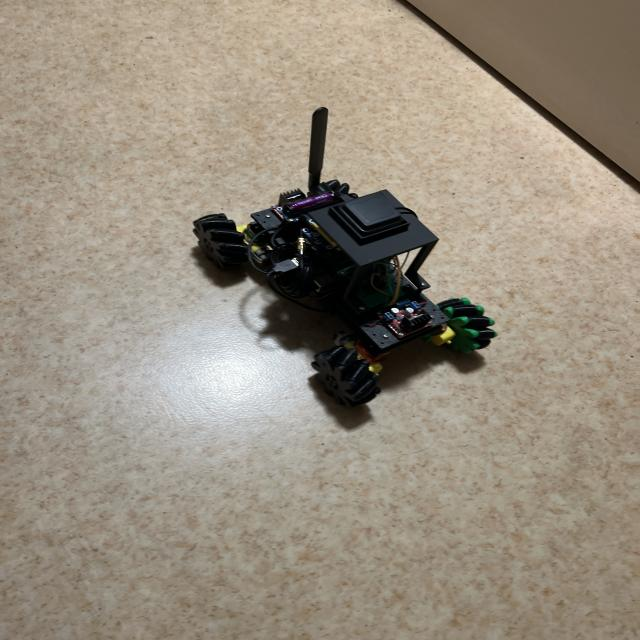robot: (193, 107, 496, 406)
